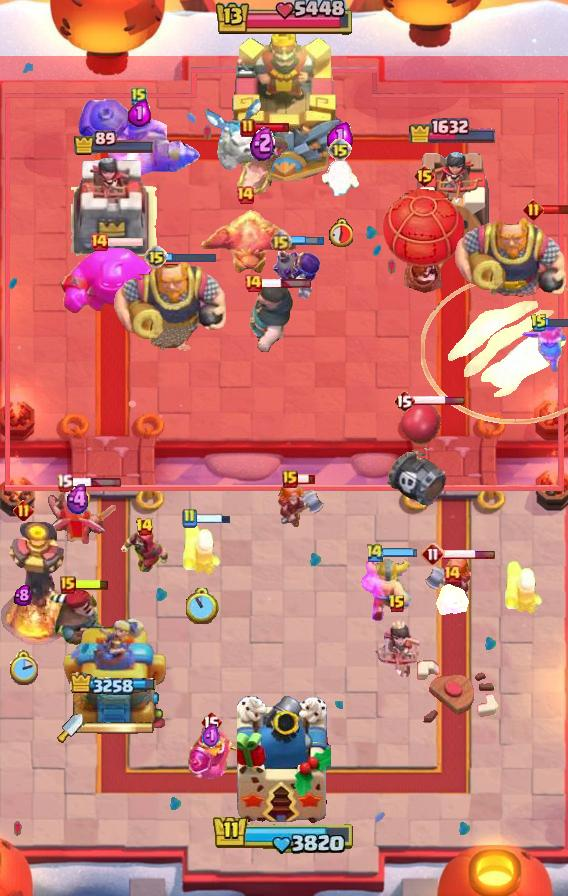bar: (61, 615, 166, 731)
bat: (319, 158, 361, 200)
bat-evolution: (434, 583, 470, 621)
bowler: (118, 526, 170, 576)
cannon-cart: (379, 184, 469, 294)
clock: (212, 814, 356, 856), (213, 0, 355, 38)
clone: (57, 245, 169, 317)
electro-dragon: (0, 519, 78, 645)
electro-spirit: (250, 125, 275, 161), (64, 485, 92, 516), (327, 122, 353, 152), (129, 100, 152, 127), (202, 723, 220, 750), (14, 584, 32, 606)
elixir: (185, 588, 219, 624), (8, 651, 38, 686), (328, 218, 353, 247)
emote: (166, 251, 217, 263), (412, 395, 466, 406), (442, 549, 496, 560), (260, 278, 312, 289), (70, 476, 122, 487), (74, 578, 110, 591), (107, 236, 145, 248), (197, 512, 232, 524), (253, 122, 290, 133), (290, 234, 325, 245), (382, 546, 417, 557), (540, 204, 567, 216), (544, 317, 567, 329), (296, 473, 316, 485)
firecracker-evolution: (187, 722, 236, 780)
freeze: (234, 127, 290, 197)
giant-skeleton: (112, 254, 228, 354), (452, 213, 568, 303)
goblin-ball: (270, 246, 322, 302)
goblin-giant: (360, 556, 411, 622)
hog-rider: (520, 320, 568, 374), (277, 481, 327, 529), (422, 557, 472, 605)
ice-wizard: (420, 275, 567, 425)
king-tower: (220, 21, 348, 181), (237, 696, 331, 826)
king-tower-bar: (83, 721, 155, 735)
mini-pekka: (202, 97, 266, 173)
mother-witch: (194, 209, 296, 279)
phoenix-small: (48, 586, 118, 654)
poison: (35, 478, 121, 554)
queen-tower: (410, 144, 496, 255), (71, 156, 157, 256)
royal-hog: (234, 279, 296, 353)
royal-recruit-evolution: (385, 402, 451, 506)
selected: (408, 115, 498, 143), (70, 672, 158, 698), (72, 130, 155, 156)
skeleton-dragon: (372, 619, 422, 677)
text: (328, 138, 352, 162), (144, 245, 168, 269), (421, 542, 445, 566), (413, 164, 436, 188), (269, 228, 292, 252), (393, 389, 415, 413), (200, 710, 222, 734), (524, 199, 545, 221), (14, 499, 35, 520), (365, 541, 385, 562), (235, 185, 255, 205), (89, 232, 109, 252), (243, 273, 263, 293), (134, 517, 154, 537), (442, 564, 462, 584), (530, 313, 548, 333), (388, 594, 406, 614), (55, 472, 73, 491), (131, 86, 147, 106), (240, 118, 256, 138), (181, 508, 197, 528), (282, 470, 298, 488), (60, 576, 76, 594)
tombstone: (181, 519, 223, 577), (503, 558, 545, 616)
wizard: (77, 98, 201, 176)
